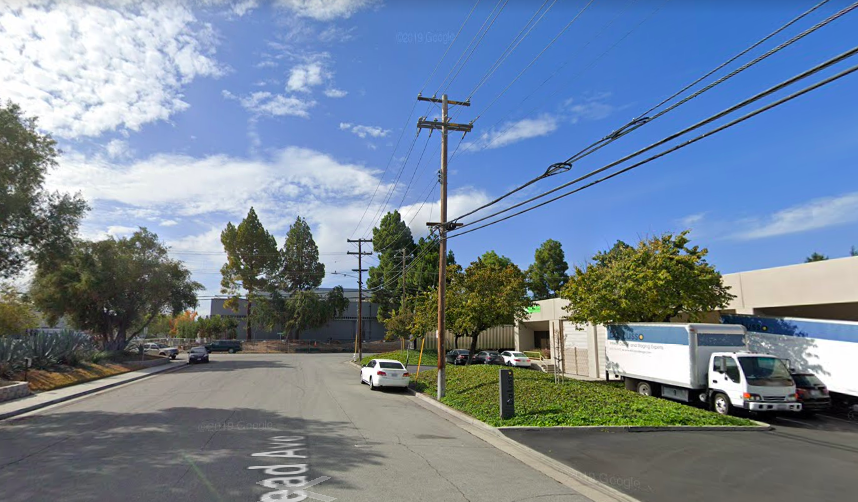tree: (31, 224, 206, 354)
utility_pole: (410, 83, 479, 160), (342, 231, 375, 283)
